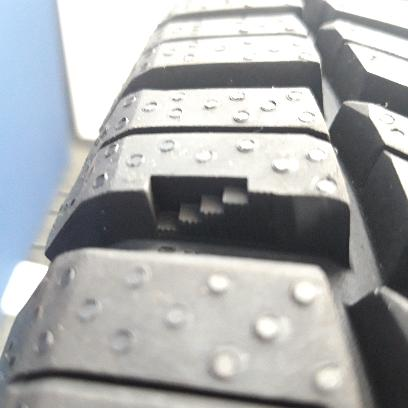temoin:100: (143, 173, 279, 248)
